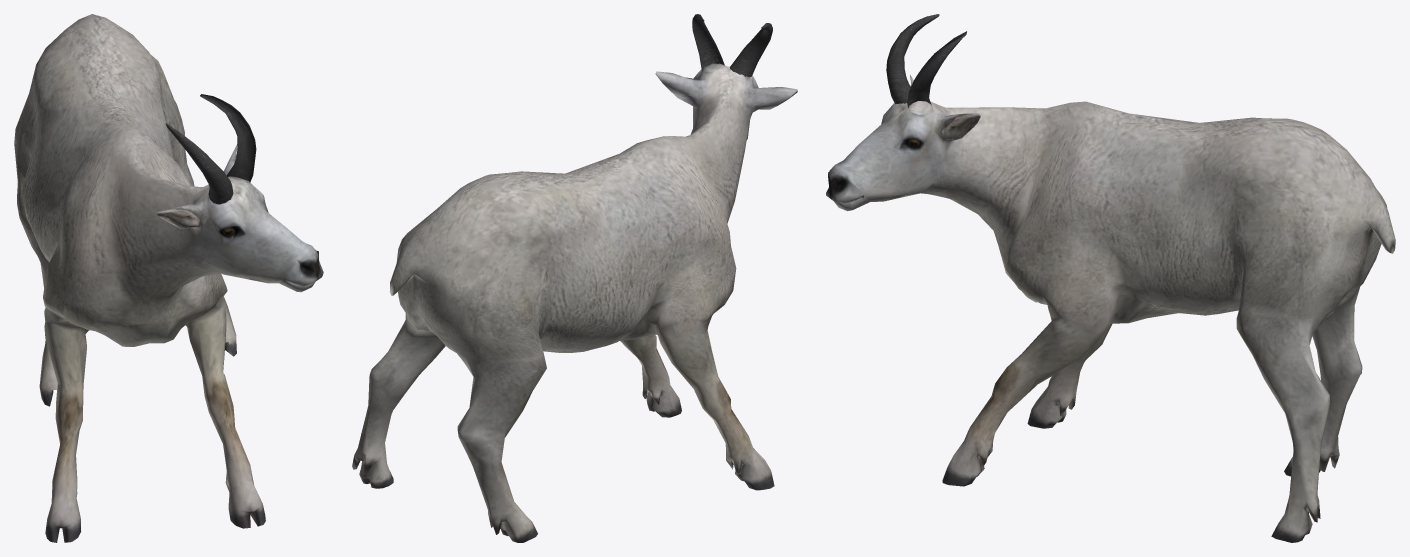
Rendered from mountain_goat.glb.
The picture shows the model from 3 angles, left to right: view 1: azimuth 30°, elevation 25°; view 2: azimuth 150°, elevation 25°; view 3: azimuth 270°, elevation 25°; orthographic projection. The views are drawn at different scales.
Parts seen in each view (by area): view 1: MountainGoat_Antler_applied_clean_M_MountainGoat_0_M_Mountai, MountainGoat_Antler_applied_clean_MountainGoat_Antle_0_Mount; view 2: MountainGoat_Antler_applied_clean_M_MountainGoat_0_M_Mountai, MountainGoat_Antler_applied_clean_MountainGoat_Antle_0_Mount; view 3: MountainGoat_Antler_applied_clean_M_MountainGoat_0_M_Mountai, MountainGoat_Antler_applied_clean_MountainGoat_Antle_0_Mount.
Part boxes in pixels (bbox=[...]): MountainGoat_Antler_applied_clean_M_MountainGoat_0_M_Mountai: bbox=[14, 14, 323, 542]; MountainGoat_Antler_applied_clean_MountainGoat_Antle_0_Mount: bbox=[165, 94, 256, 204]; MountainGoat_Antler_applied_clean_M_MountainGoat_0_M_Mountai: bbox=[352, 63, 797, 542]; MountainGoat_Antler_applied_clean_MountainGoat_Antle_0_Mount: bbox=[692, 14, 772, 77]; MountainGoat_Antler_applied_clean_M_MountainGoat_0_M_Mountai: bbox=[826, 74, 1395, 542]; MountainGoat_Antler_applied_clean_MountainGoat_Antle_0_Mount: bbox=[886, 14, 966, 107].
Bounding box in the file's own units: 1.05 × 1.43 × 1.68.
Materials: 2 (2 with a texture image).
